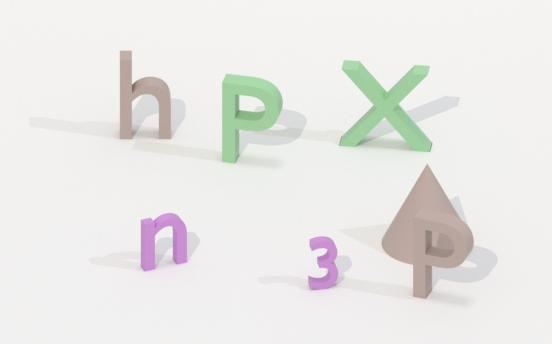3: (305, 233, 343, 293)
h: (113, 51, 183, 142)
n: (136, 213, 195, 272)
non: (380, 168, 478, 268)
p: (218, 73, 287, 165), (411, 207, 474, 302)
x: (335, 58, 439, 154)
